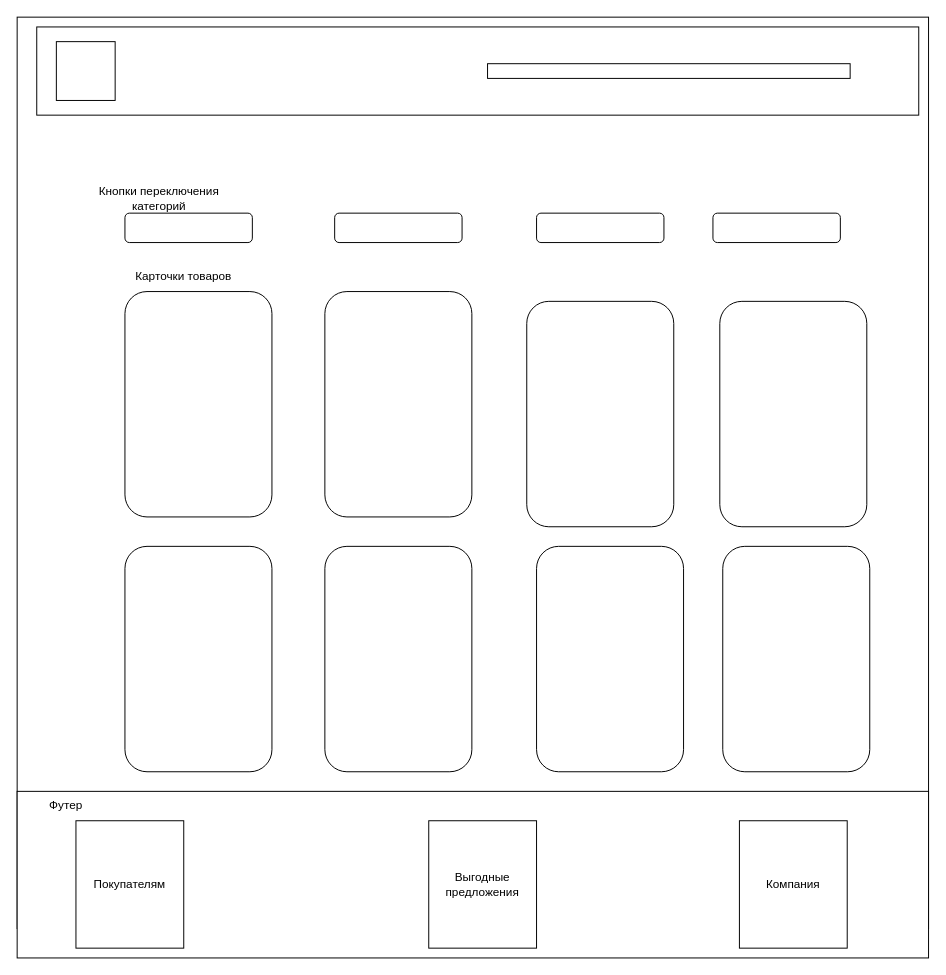
This 946x975 diagram has some shape labels left out. Each missing label, with the box of its shape:
Логотип: (55, 41, 115, 100)
Навигация: (487, 63, 850, 78)
